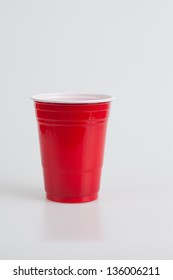plastic_glass: (27, 89, 118, 206)
